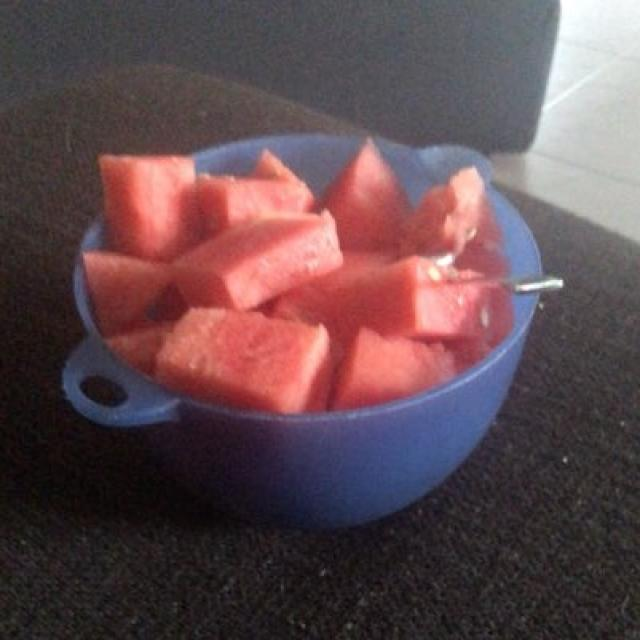watermelon-fresh: (79, 151, 508, 409)
